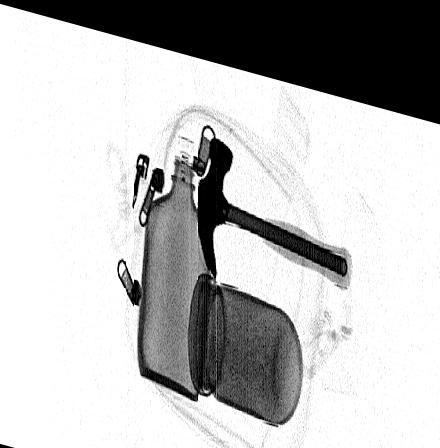Hammer: (196, 125, 352, 272)
